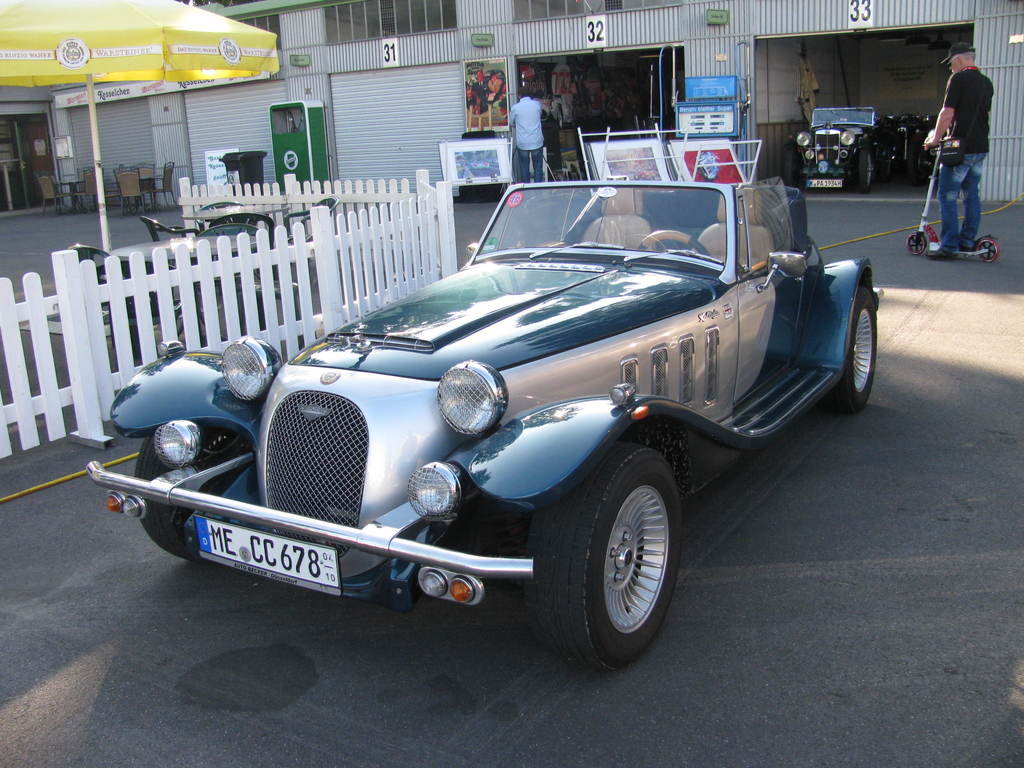car: (85, 164, 883, 678)
